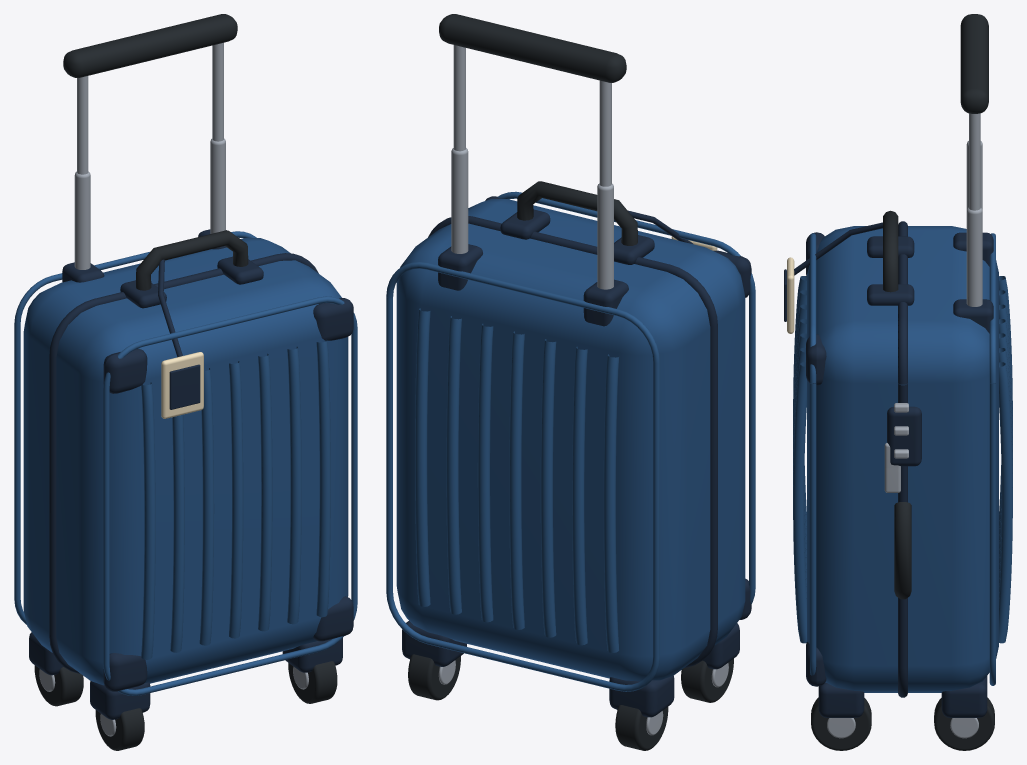
Rendered from HotelTogether-Blue-Suitcase.glb.
The picture shows the model from 3 angles, left to right: view 1: azimuth 30°, elevation 25°; view 2: azimuth 150°, elevation 25°; view 3: azimuth 270°, elevation 25°; orthographic projection. The views are drawn at different scales.
Parts seen in each view (by area): view 1: Suitcase_Body, Suitcase_Wheel_01, Suitcase_Wheel_03, Suitcase_Wheel_02; view 2: Suitcase_Body, Suitcase_Wheel_02, Suitcase_Wheel_04, Suitcase_Wheel_01; view 3: Suitcase_Body, Suitcase_Wheel_03, Suitcase_Wheel_04.
Part boxes in pixels (x1,y1,x2,y2): Suitcase_Body: (14,14,357,719); Suitcase_Wheel_01: (95,708,144,750); Suitcase_Wheel_03: (288,661,337,703); Suitcase_Wheel_02: (34,665,83,706); Suitcase_Body: (386,14,755,717); Suitcase_Wheel_02: (615,705,668,750); Suitcase_Wheel_04: (408,654,460,700); Suitcase_Wheel_01: (681,658,733,702); Suitcase_Body: (784,14,1012,717); Suitcase_Wheel_03: (811,697,871,750); Suitcase_Wheel_04: (934,697,994,750).
Bounding box in the file's own units: 0.4731 × 0.9855 × 0.3156.
